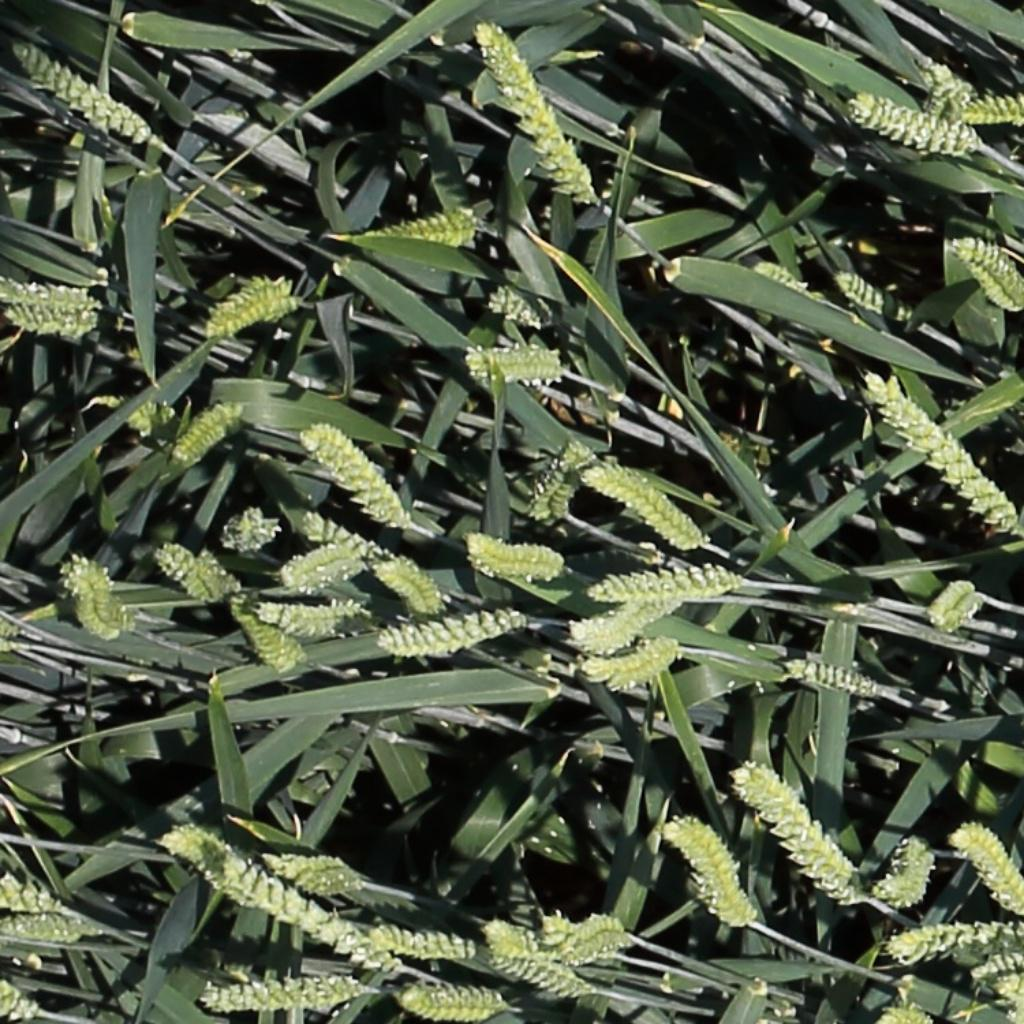0-0: (864, 375, 1024, 551), (230, 854, 427, 983), (475, 20, 592, 206), (732, 758, 866, 904), (12, 42, 158, 143), (0, 842, 115, 946), (300, 421, 405, 528), (669, 808, 761, 928), (585, 464, 701, 548), (487, 920, 588, 1002), (950, 823, 1024, 922), (849, 92, 972, 151), (190, 973, 371, 1013), (159, 814, 244, 895), (566, 596, 687, 652), (888, 918, 1024, 966), (64, 552, 128, 643), (577, 640, 679, 697), (203, 271, 293, 334), (380, 614, 524, 653), (585, 565, 749, 599), (952, 232, 1022, 311), (228, 599, 300, 674), (364, 204, 477, 251), (75, 395, 174, 448), (524, 436, 585, 518), (464, 341, 571, 387), (550, 911, 634, 968), (294, 513, 389, 563), (167, 401, 237, 468), (397, 984, 514, 1024), (465, 536, 568, 581), (150, 543, 223, 603), (263, 852, 361, 894), (834, 271, 912, 323), (782, 660, 886, 699), (880, 836, 932, 913), (259, 601, 363, 638), (372, 559, 438, 614), (748, 259, 832, 302), (927, 577, 985, 637), (918, 57, 973, 120), (371, 927, 484, 957), (283, 544, 358, 589), (222, 501, 280, 559), (4, 303, 99, 337), (484, 283, 553, 328), (0, 278, 90, 305), (958, 94, 1024, 128), (973, 948, 1024, 978), (879, 1008, 929, 1024)
